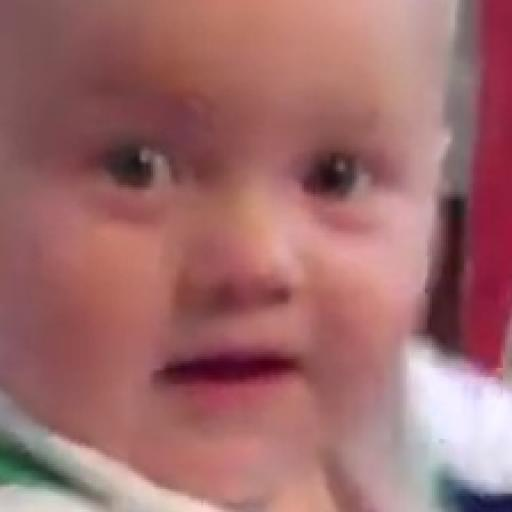Autism: (18, 4, 472, 493)
